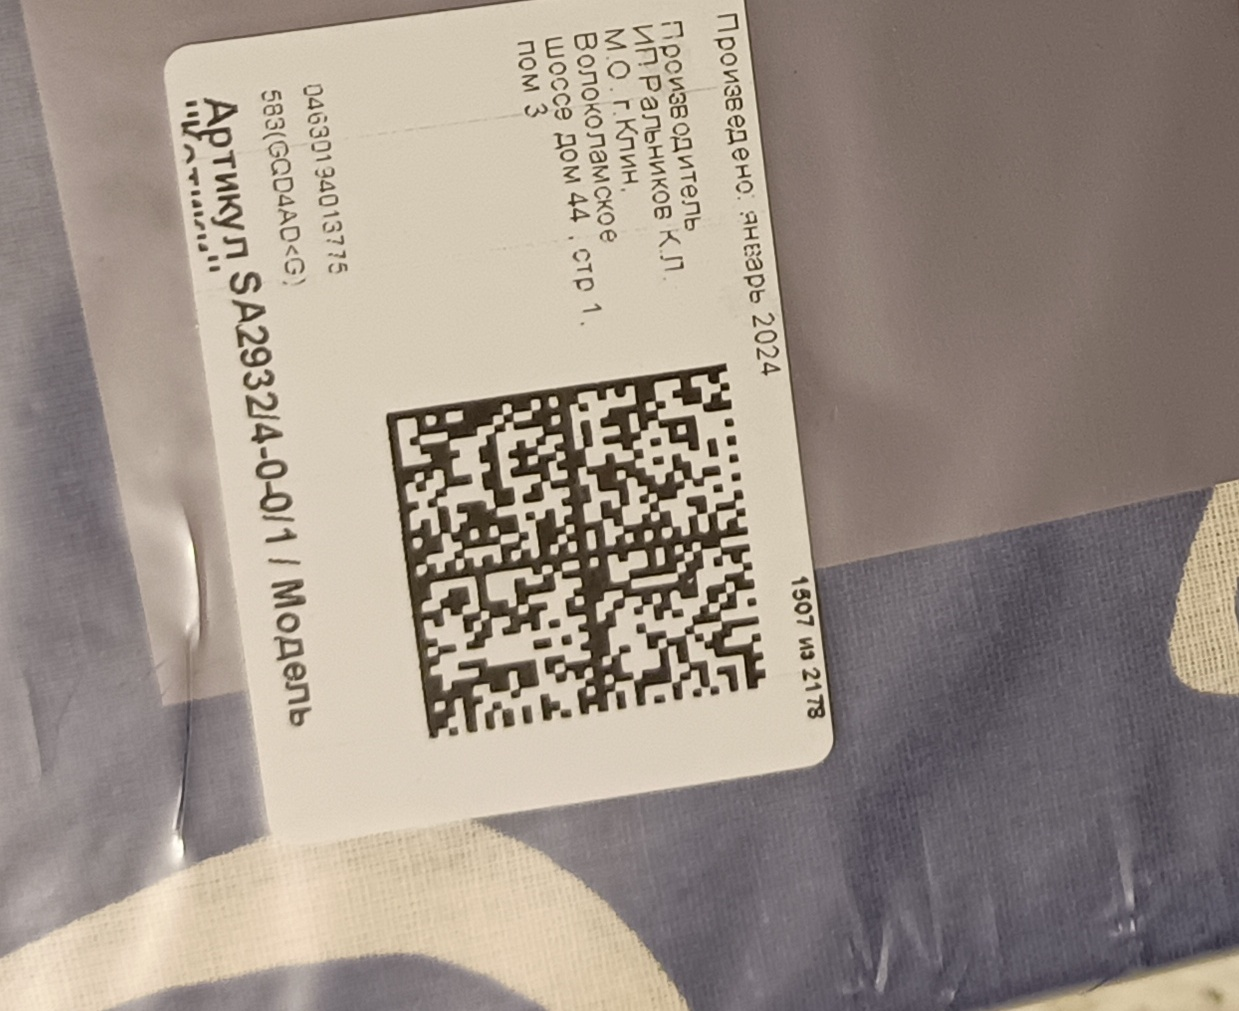2d: (383, 359, 767, 740)
